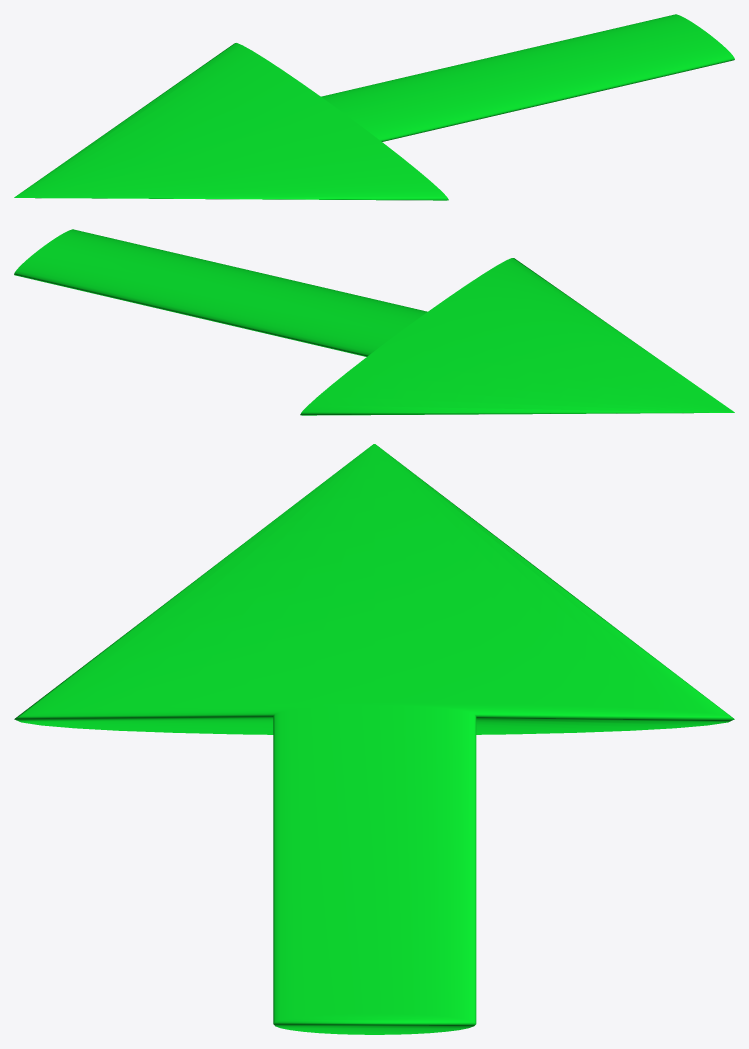
Rendered from arrow.gltf.
3 views of the same model, one above another, from view 1: azimuth 30°, elevation 25°; view 2: azimuth 150°, elevation 25°; view 3: azimuth 270°, elevation 25° (orthographic). The views are drawn at different scales.
Visible parts, largest first — view 1: Cylinder; view 2: Cylinder; view 3: Cylinder.
Part boxes in pixels (x1,y1,x2,y2): Cylinder: (14, 14, 734, 200); Cylinder: (14, 229, 734, 415); Cylinder: (14, 444, 734, 1034).
Size of the model in its own units: 0.6314 by 0.0179 by 0.3396.
